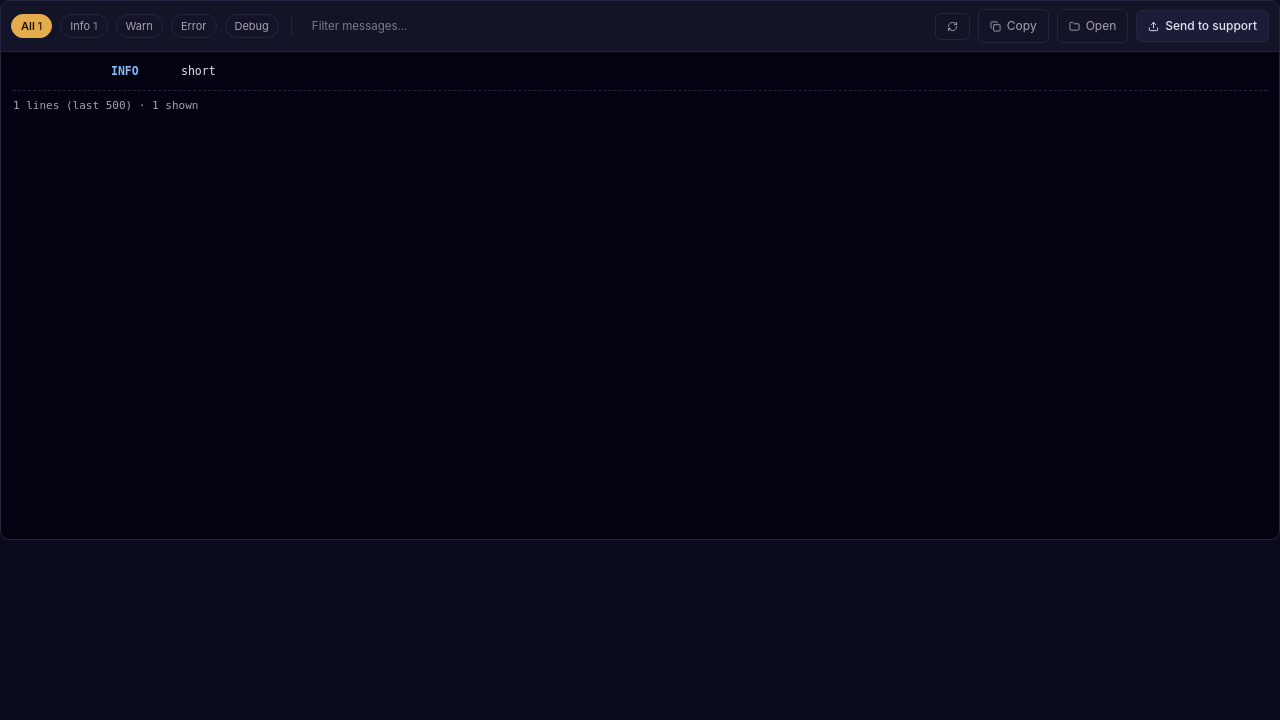
<LogsViewer> › stringifies non-Error rejection from open_log_file
Expected: the text "short" is shown, [181, 64, 216, 78]
Click the button "Open".
click(1092, 26)  # box [1057, 9, 1128, 43]
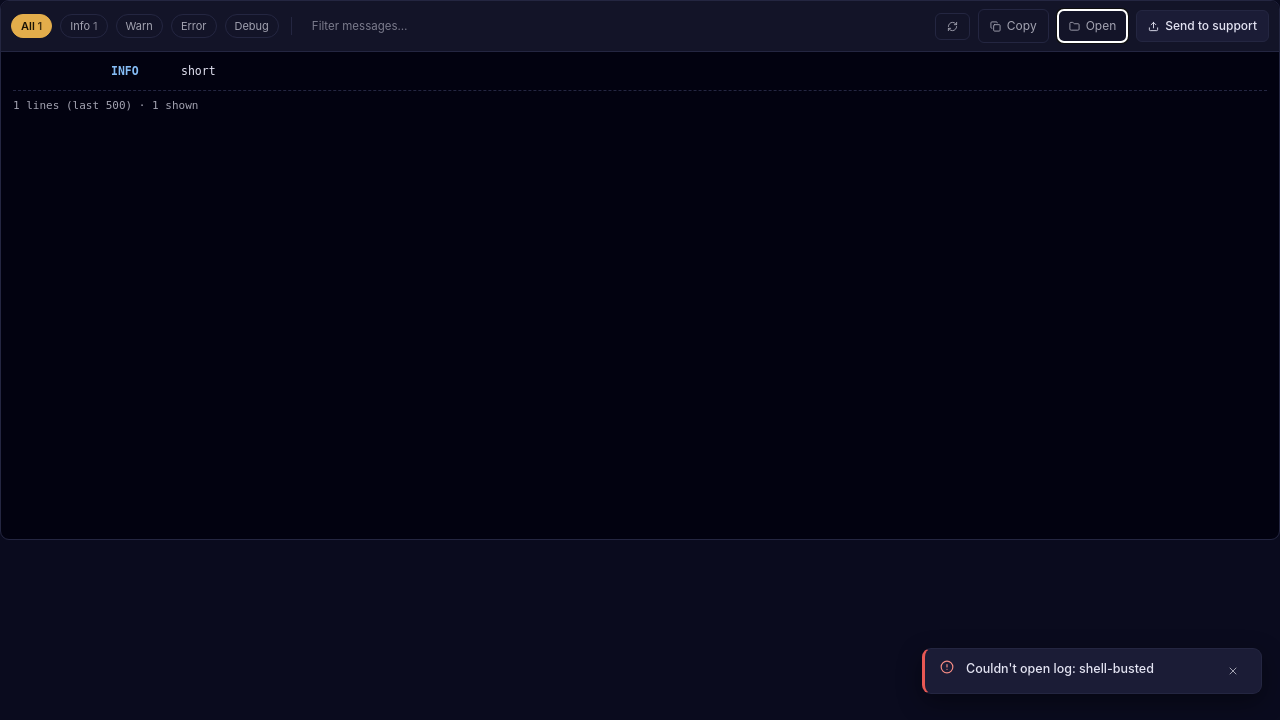
Expected: the text "Couldn't open log: shell-busted" is shown, [966, 661, 1154, 676]
